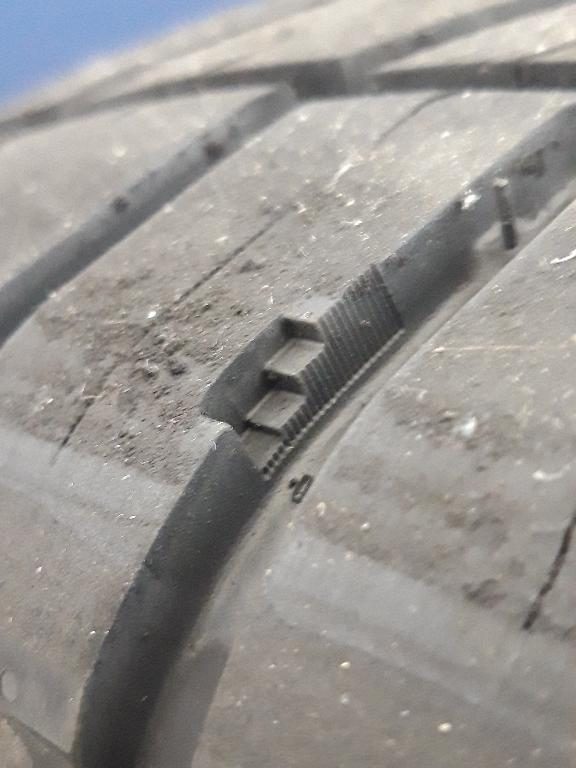temoin:75: (190, 284, 380, 493)
